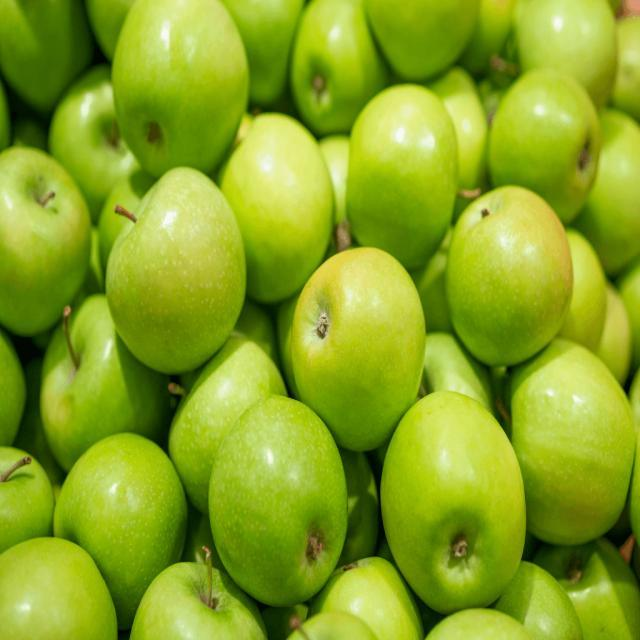Green Apple: (207, 395, 349, 607), (105, 166, 248, 374), (286, 246, 427, 452), (508, 338, 636, 546), (111, 1, 251, 178), (445, 184, 574, 367), (219, 112, 336, 304), (346, 83, 459, 271), (487, 68, 602, 224), (1, 145, 93, 337), (364, 1, 480, 82)
Red Apple: (1, 1, 640, 640)
